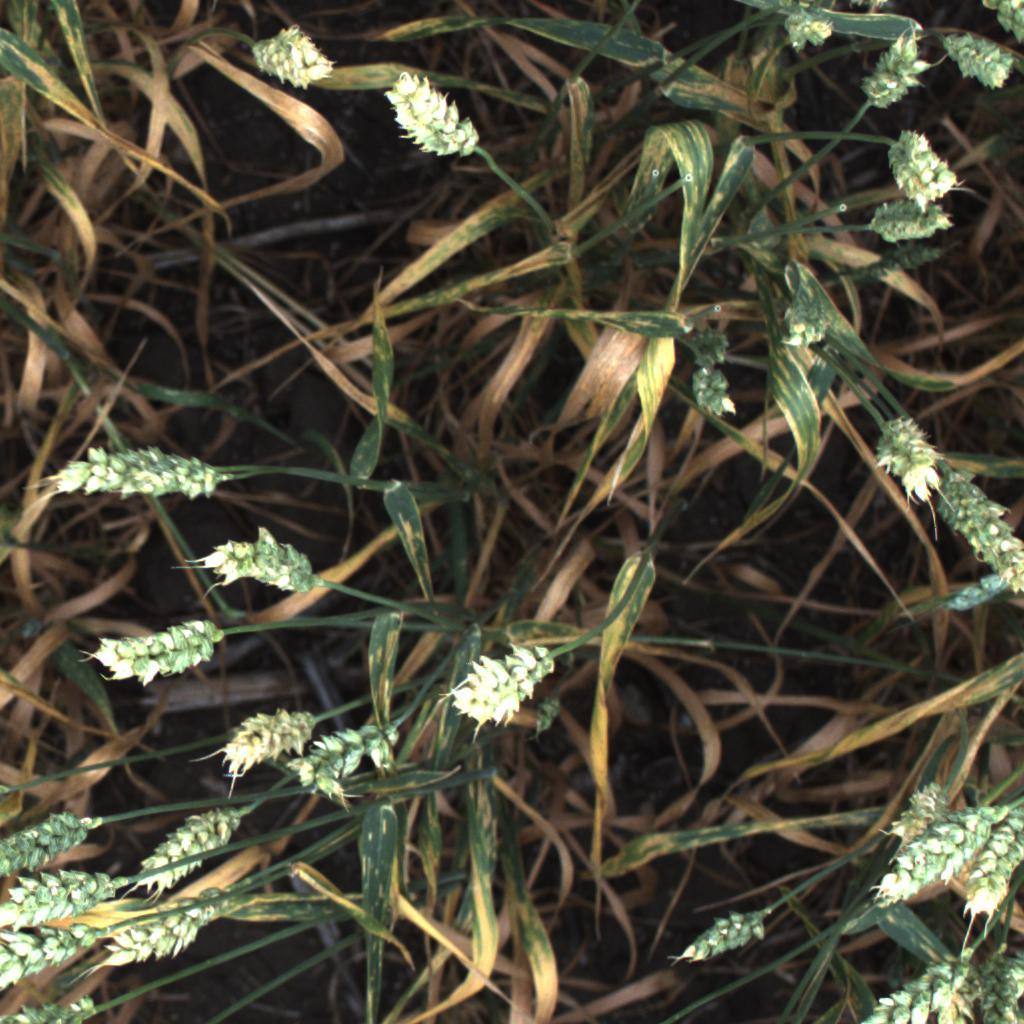0-0: (863, 785, 1016, 912), (930, 443, 1024, 605), (96, 883, 264, 971), (84, 604, 234, 690), (40, 439, 232, 505), (278, 705, 412, 799), (136, 794, 253, 898), (437, 637, 560, 732), (205, 690, 325, 786), (181, 521, 332, 597), (374, 67, 488, 164), (0, 913, 128, 997), (842, 944, 974, 1024), (0, 863, 140, 935), (0, 794, 108, 879), (953, 793, 1024, 918), (858, 20, 938, 119), (667, 903, 781, 971), (869, 407, 941, 510), (246, 21, 345, 91), (872, 130, 961, 207), (939, 23, 1022, 96), (676, 354, 750, 426), (883, 773, 943, 842), (935, 940, 982, 1024), (859, 208, 953, 248), (778, 2, 845, 54), (1, 1000, 110, 1024), (990, 0, 1024, 50)
